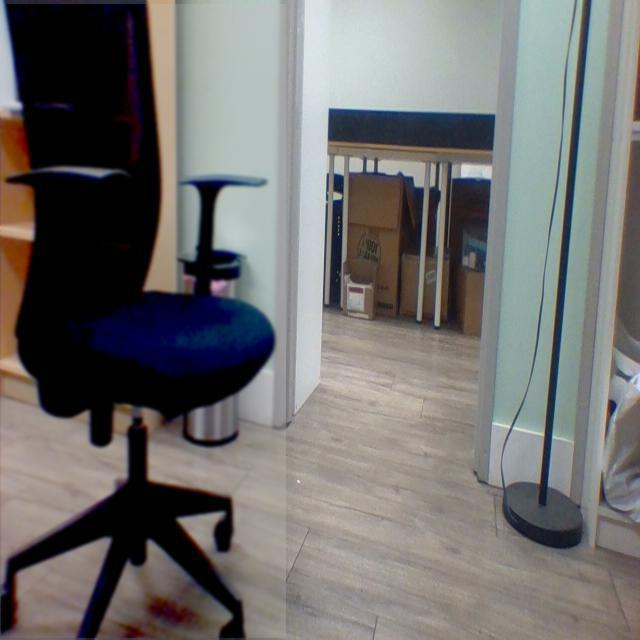chair: (0, 0, 277, 640)
